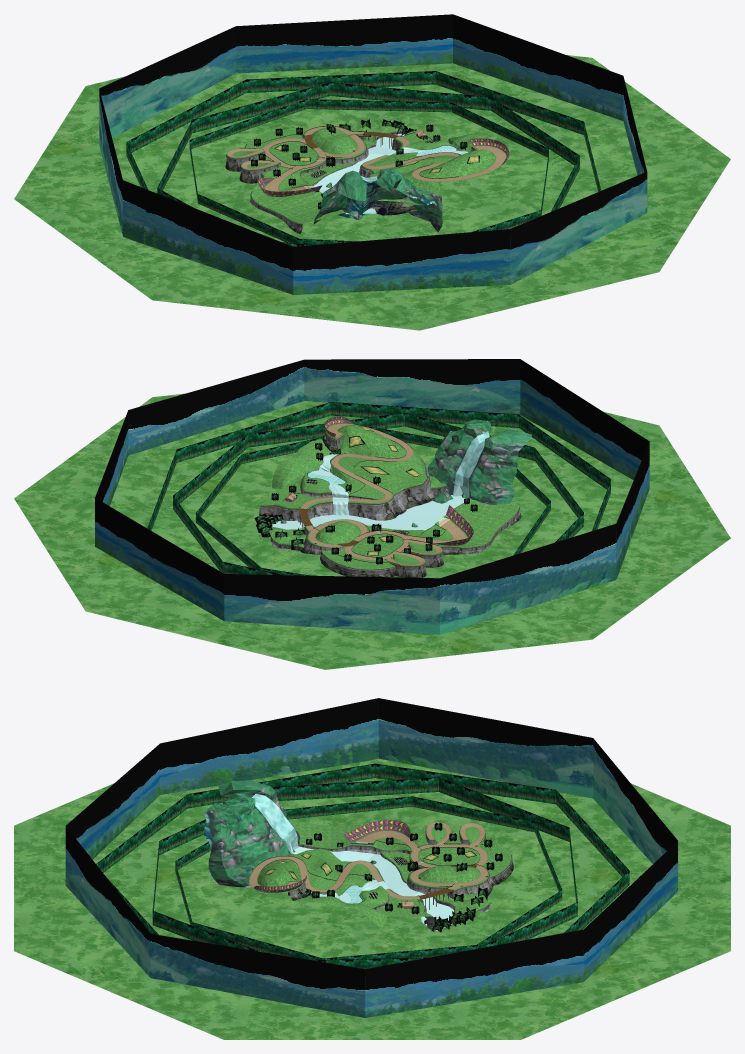
3 views of the same model, one above another, from view 1: azimuth 30°, elevation 25°; view 2: azimuth 150°, elevation 25°; view 3: azimuth 270°, elevation 25° (orthographic). The views are drawn at different scales.
Parts seen in each view (by area): view 1: coursefinalhope.043, coursefinalhope.061, coursefinalhope.055, coursefinalhope.062, coursefinalhope.040, coursefinalhope.048, coursefinalhope.052, coursefinalhope.041, coursefinalhope.057, coursefinalhope.033, coursefinalhope.058, coursefinalhope.051 (+1 smaller); view 2: coursefinalhope.043, coursefinalhope.062, coursefinalhope.061, coursefinalhope.055, coursefinalhope.040, coursefinalhope.052, coursefinalhope.048, coursefinalhope.058, coursefinalhope.041, coursefinalhope.057, coursefinalhope.033, coursefinalhope.059 (+4 smaller); view 3: coursefinalhope.043, coursefinalhope.061, coursefinalhope.062, coursefinalhope.055, coursefinalhope.040, coursefinalhope.048, coursefinalhope.052, coursefinalhope.057, coursefinalhope.058, coursefinalhope.041, coursefinalhope.033, coursefinalhope.059 (+2 smaller).
Part boxes in pixels (x1,y1,x2,y2): coursefinalhope.043: (14, 55, 730, 330); coursefinalhope.061: (123, 14, 623, 294); coursefinalhope.055: (126, 71, 601, 246); coursefinalhope.062: (99, 26, 647, 284); coursefinalhope.040: (233, 124, 495, 223); coursefinalhope.048: (313, 168, 442, 232); coursefinalhope.052: (225, 129, 476, 233); coursefinalhope.041: (263, 131, 506, 191); coursefinalhope.057: (251, 119, 467, 209); coursefinalhope.033: (227, 126, 365, 170); coursefinalhope.058: (313, 133, 467, 213); coursefinalhope.051: (257, 138, 509, 196); coursefinalhope.043: (14, 393, 730, 669); coursefinalhope.062: (128, 359, 616, 634); coursefinalhope.061: (95, 359, 649, 620); coursefinalhope.055: (147, 402, 610, 575); coursefinalhope.040: (261, 425, 518, 568); coursefinalhope.052: (259, 431, 521, 577); coursefinalhope.048: (280, 419, 531, 527); coursefinalhope.058: (272, 444, 484, 530); coursefinalhope.041: (300, 423, 468, 544); coursefinalhope.057: (254, 434, 477, 564); coursefinalhope.033: (305, 519, 442, 565); coursefinalhope.059: (308, 431, 489, 498); coursefinalhope.043: (14, 758, 730, 1039); coursefinalhope.061: (66, 698, 677, 1017); coursefinalhope.062: (65, 698, 677, 1017); coursefinalhope.055: (96, 763, 629, 969); coursefinalhope.040: (253, 821, 510, 926); coursefinalhope.048: (203, 780, 376, 887); coursefinalhope.052: (251, 829, 513, 932); coursefinalhope.057: (297, 823, 502, 932); coursefinalhope.058: (286, 818, 453, 930); coursefinalhope.041: (249, 830, 461, 899); coursefinalhope.033: (410, 822, 488, 889); coursefinalhope.059: (252, 793, 451, 926).
Bounding box in the file's own units: 295227 × 38086 × 295227.
34 materials, 33 textured.
